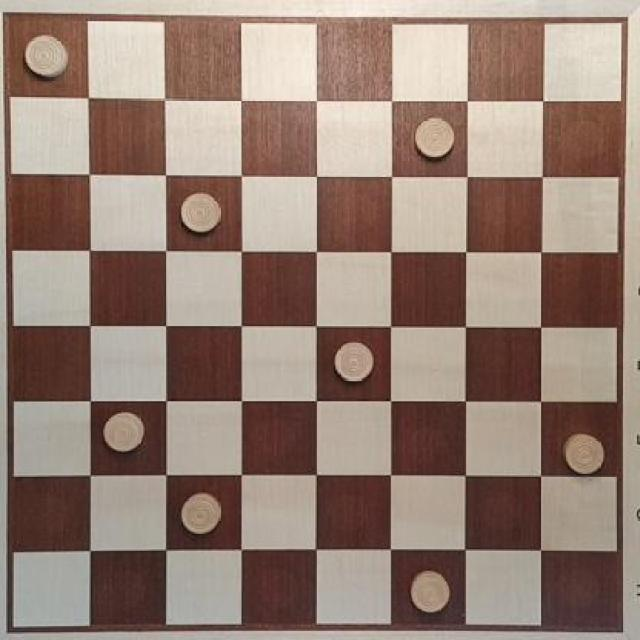BOARD: (2, 12, 621, 633)
white: (326, 333, 384, 389), (100, 404, 152, 464), (173, 181, 225, 237), (556, 426, 608, 481), (409, 114, 460, 167), (403, 568, 456, 618), (20, 30, 71, 80), (178, 488, 226, 540)
